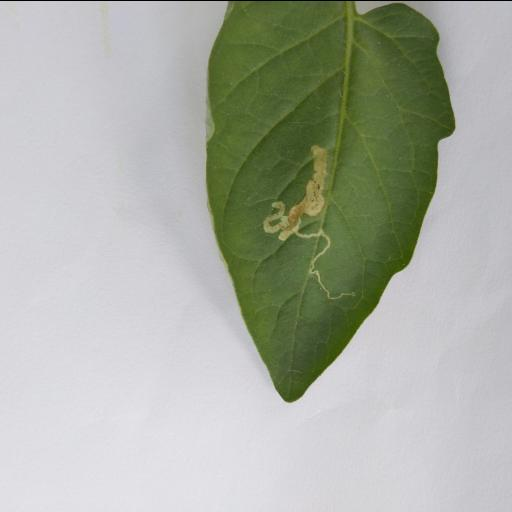Leaf Miner: (204, 0, 460, 402)
